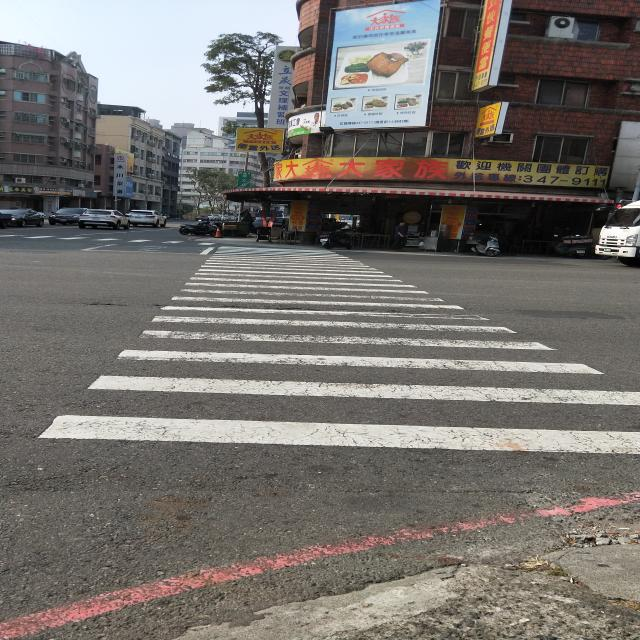zebra crossing: (35, 246, 640, 452), (0, 233, 215, 246)
